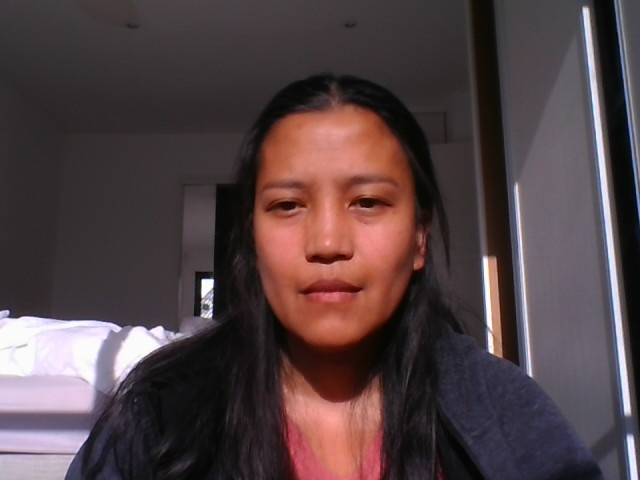face: (252, 105, 416, 350)
